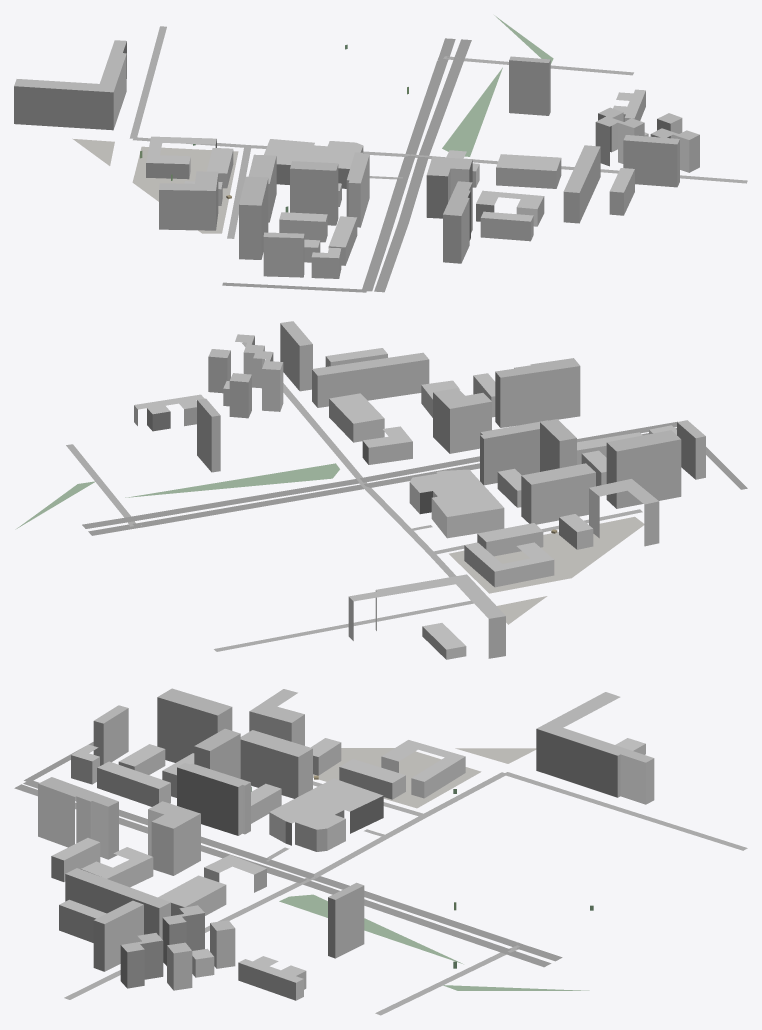
3 renders of one model, top to bottom at view 1: azimuth 30°, elevation 25°; view 2: azimuth 150°, elevation 25°; view 3: azimuth 270°, elevation 25°, orthographic. The views are drawn at different scales.
Size of the model in its own units: 595 by 60.88 by 644.
